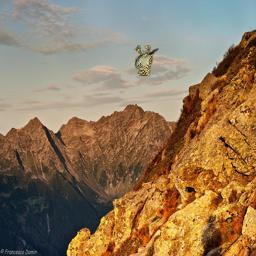Sparrow: (135, 46, 160, 77)
